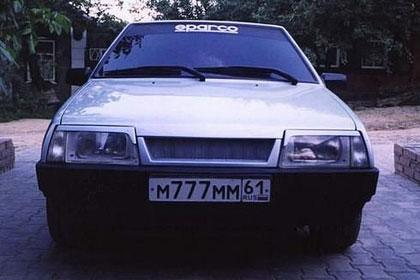license-plateSW: (148, 177, 272, 203)
